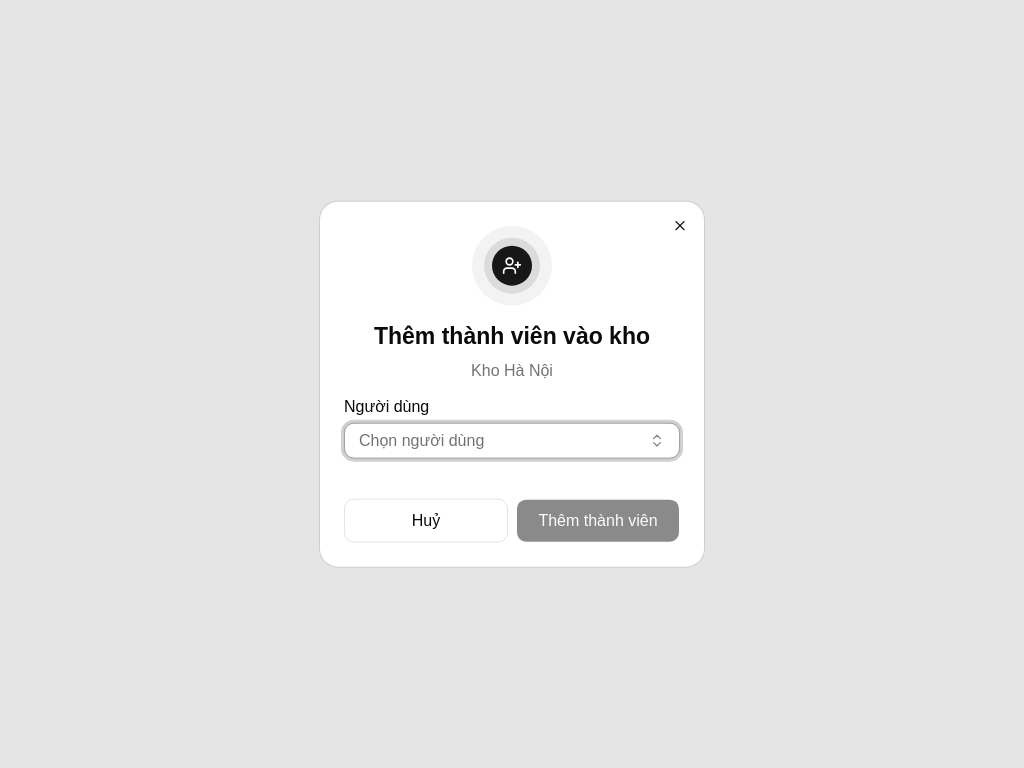
Test: AddWarehouseMemberDialog › liệt kê ứng viên dạng "Họ tên (SĐT) · Vai trò"; chưa chọn thì nút Thêm khoá
The width and height of the screenshot is (1024, 768).
Expected: the text "Kho Hà Nội" is shown, [471,358,553,382]
Expected: the button "Thêm thành viên" is disabled, [516,498,680,542]
What coordinates should you click on to do the following:
click the dropdown labelled "người dùng"
I would click on:
 (422, 440)
Its box is [344,422,680,458].
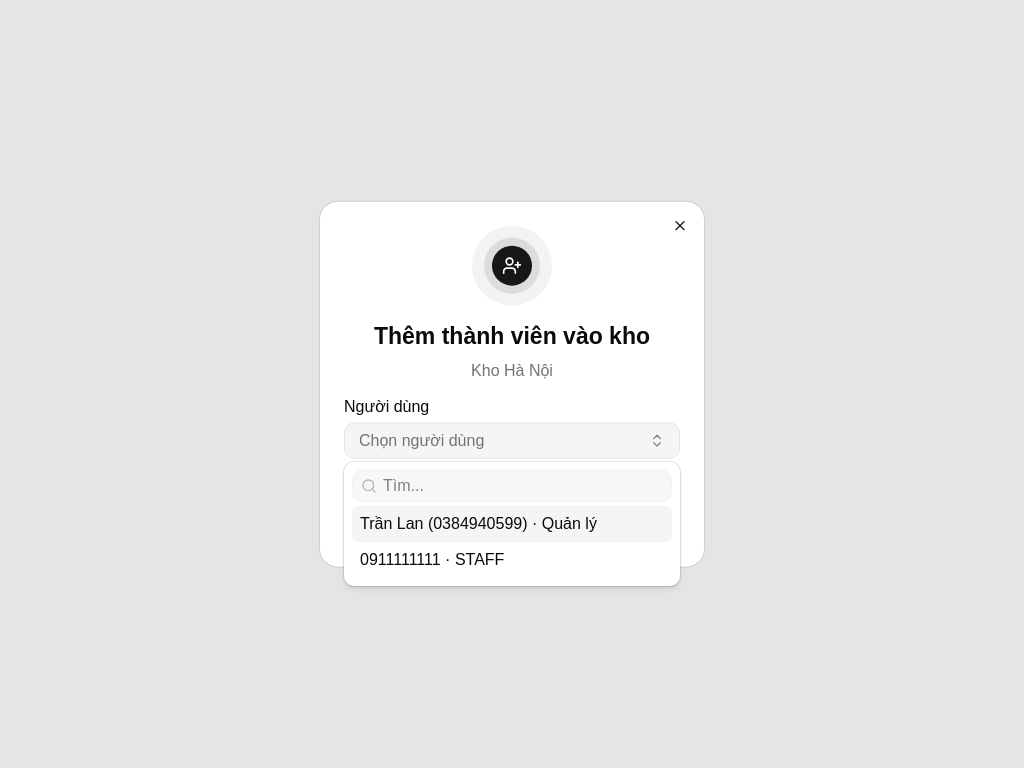
Now the text "Trần Lan (0384940599) · Quản lý" is shown, box [360,512,597,536]
Now the text "0911111111 · STAFF" is shown, box [360,548,504,572]
